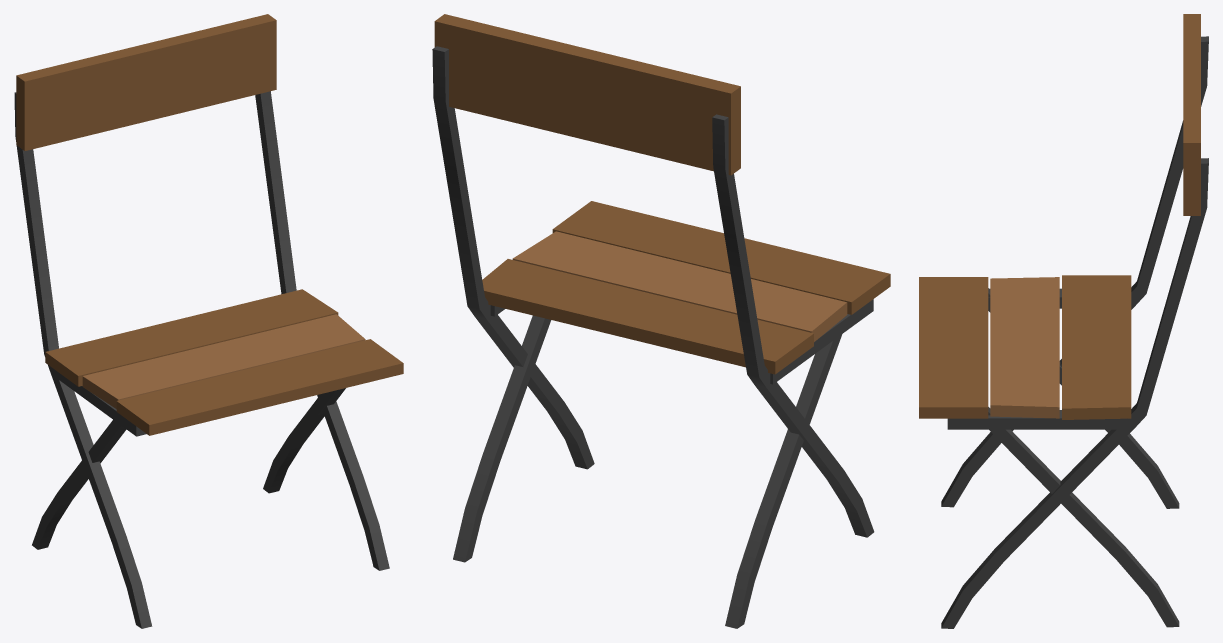
The model's file is SM_Props_Cafe_06.fbx.
3 views of the same model, side by side, from view 1: azimuth 30°, elevation 25°; view 2: azimuth 150°, elevation 25°; view 3: azimuth 270°, elevation 25° (orthographic). The views are drawn at different scales.
Parts seen in each view (by area): view 1: SM_Props_Cafe_06; view 2: SM_Props_Cafe_06; view 3: SM_Props_Cafe_06.
Part boxes in pixels (<box>): SM_Props_Cafe_06: <box>14,14,403,628</box>; SM_Props_Cafe_06: <box>432,14,890,628</box>; SM_Props_Cafe_06: <box>919,14,1208,628</box>.
Bounding box in the file's own units: 0.538 × 0.917 × 0.4947.
